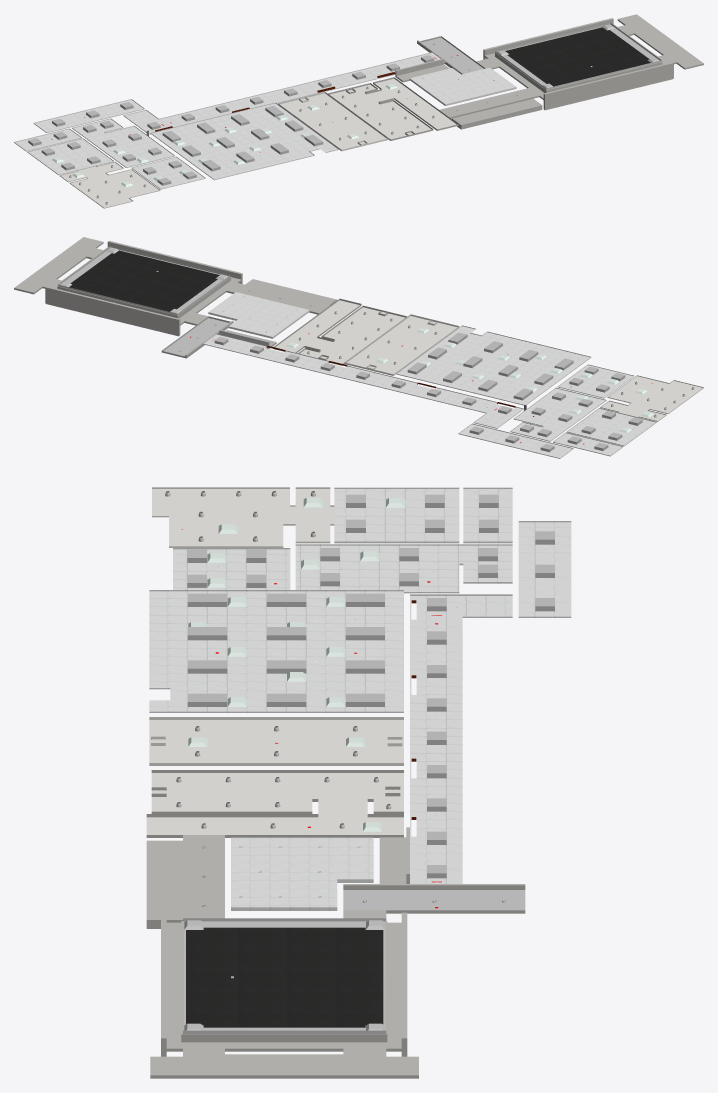
The model's file is ceiling1.FBX.
The picture shows the model from 3 angles, top to bottom: view 1: azimuth 30°, elevation 25°; view 2: azimuth 150°, elevation 25°; view 3: azimuth 270°, elevation 25°; orthographic projection. The views are drawn at different scales.
Visible parts, largest first — view 1: Locker_ceiling2, Coridoor_ceiling, Training_ceiling, Locker_ceiling1, Int_walls14, hydro_ceiling, bathroom_ceiling1, assistant_bath_ceiling, L2A, headcoach_ceiling, L2-2X4_010, locker_ceiling (+2 smaller); view 2: Coridoor_ceiling, Locker_ceiling2, Training_ceiling, Locker_ceiling1, Int_walls14, hydro_ceiling, bathroom_ceiling1, assistant_bath_ceiling, L2A, headcoach_ceiling, L2-2X4_010, locker_ceiling (+2 smaller); view 3: Locker_ceiling2, Coridoor_ceiling, Training_ceiling, Locker_ceiling1, hydro_ceiling, bathroom_ceiling1, assistant_bath_ceiling, headcoach_ceiling, L2A, L2-2X4_010, locker_ceiling, Diffusers01 (+3 smaller).
Part boxes in pixels (x1=…): Locker_ceiling2: x1=327, y1=14, x2=703, y2=140; Coridoor_ceiling: x1=14, y1=36, x2=483, y2=189; Training_ceiling: x1=150, y1=102, x2=338, y2=180; Locker_ceiling1: x1=505, y1=27, x2=650, y2=86; Int_walls14: x1=483, y1=18, x2=673, y2=109; hydro_ceiling: x1=278, y1=92, x2=388, y2=151; bathroom_ceiling1: x1=409, y1=67, x2=516, y2=105; assistant_bath_ceiling: x1=59, y1=162, x2=160, y2=208; L2A: x1=28, y1=55, x2=434, y2=185; headcoach_ceiling: x1=72, y1=118, x2=174, y2=167; L2-2X4_010: x1=162, y1=105, x2=323, y2=171; locker_ceiling: x1=495, y1=23, x2=661, y2=89; Coridoor_ceiling: x1=161, y1=316, x2=656, y2=458; Locker_ceiling2: x1=14, y1=237, x2=407, y2=365; Training_ceiling: x1=396, y1=325, x2=591, y2=405; Locker_ceiling1: x1=69, y1=250, x2=219, y2=311; Int_walls14: x1=45, y1=240, x2=242, y2=335; hydro_ceiling: x1=344, y1=314, x2=459, y2=375; bathroom_ceiling1: x1=208, y1=292, x2=309, y2=338; assistant_bath_ceiling: x1=600, y1=375, x2=703, y2=421; L2A: x1=214, y1=337, x2=642, y2=452; headcoach_ceiling: x1=510, y1=387, x2=606, y2=441; L2-2X4_010: x1=407, y1=332, x2=573, y2=400; locker_ceiling: x1=58, y1=246, x2=229, y2=315; Locker_ceiling2: x1=146, y1=770, x2=418, y2=1078; Coridoor_ceiling: x1=173, y1=487, x2=571, y2=913; Training_ceiling: x1=149, y1=590, x2=403, y2=712; Locker_ceiling1: x1=186, y1=927, x2=383, y2=1027; hydro_ceiling: x1=149, y1=717, x2=403, y2=765; bathroom_ceiling1: x1=231, y1=837, x2=373, y2=910; assistant_bath_ceiling: x1=152, y1=487, x2=334, y2=547; headcoach_ceiling: x1=295, y1=544, x2=512, y2=593; L2A: x1=187, y1=494, x2=554, y2=878; L2-2X4_010: x1=187, y1=593, x2=384, y2=706; locker_ceiling: x1=183, y1=918, x2=386, y2=1033; Diffusers01: x1=184, y1=497, x2=405, y2=1030.
Size of the model in its own units: 1683 by 45 by 516.
